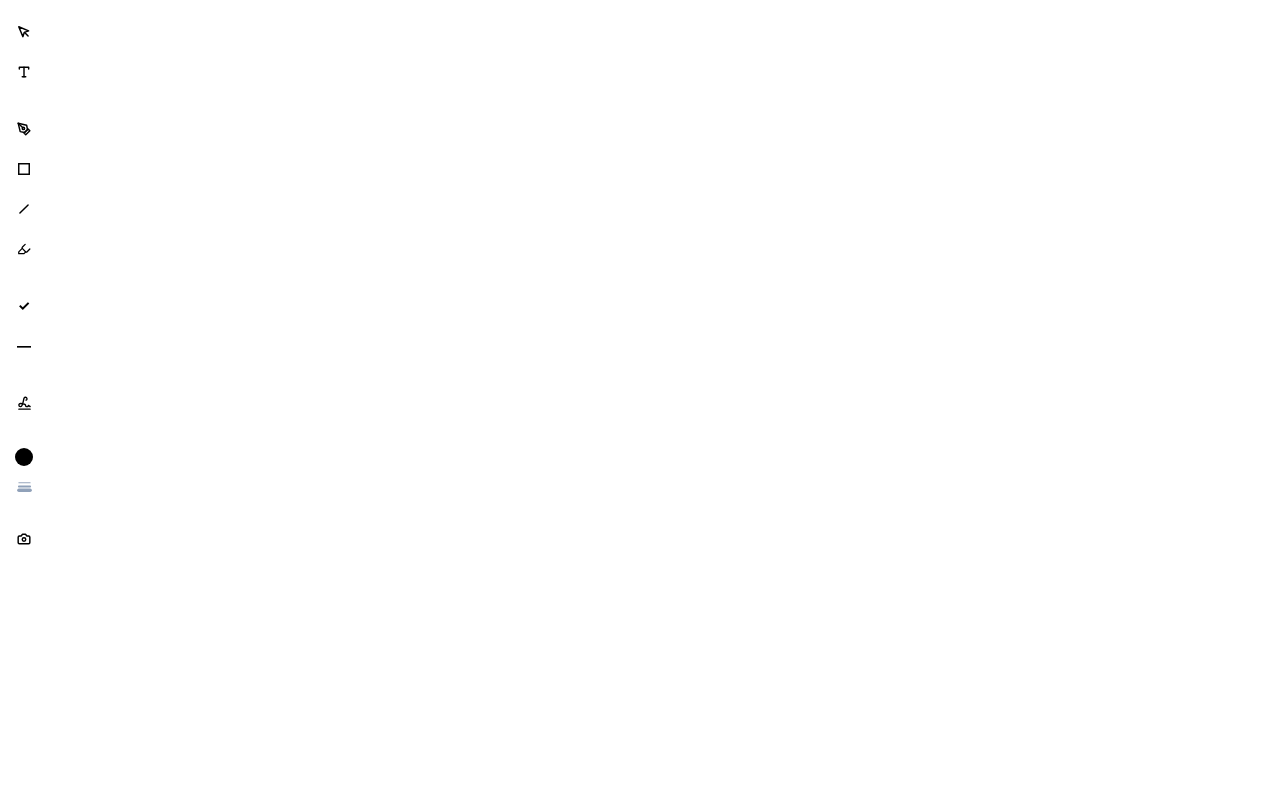
Test case: sign-off name fields › keeps an edited initials value
The image size is (1280, 800).
Click the button titled "Signatures & Initials" at (24, 403), box [8, 387, 40, 419]
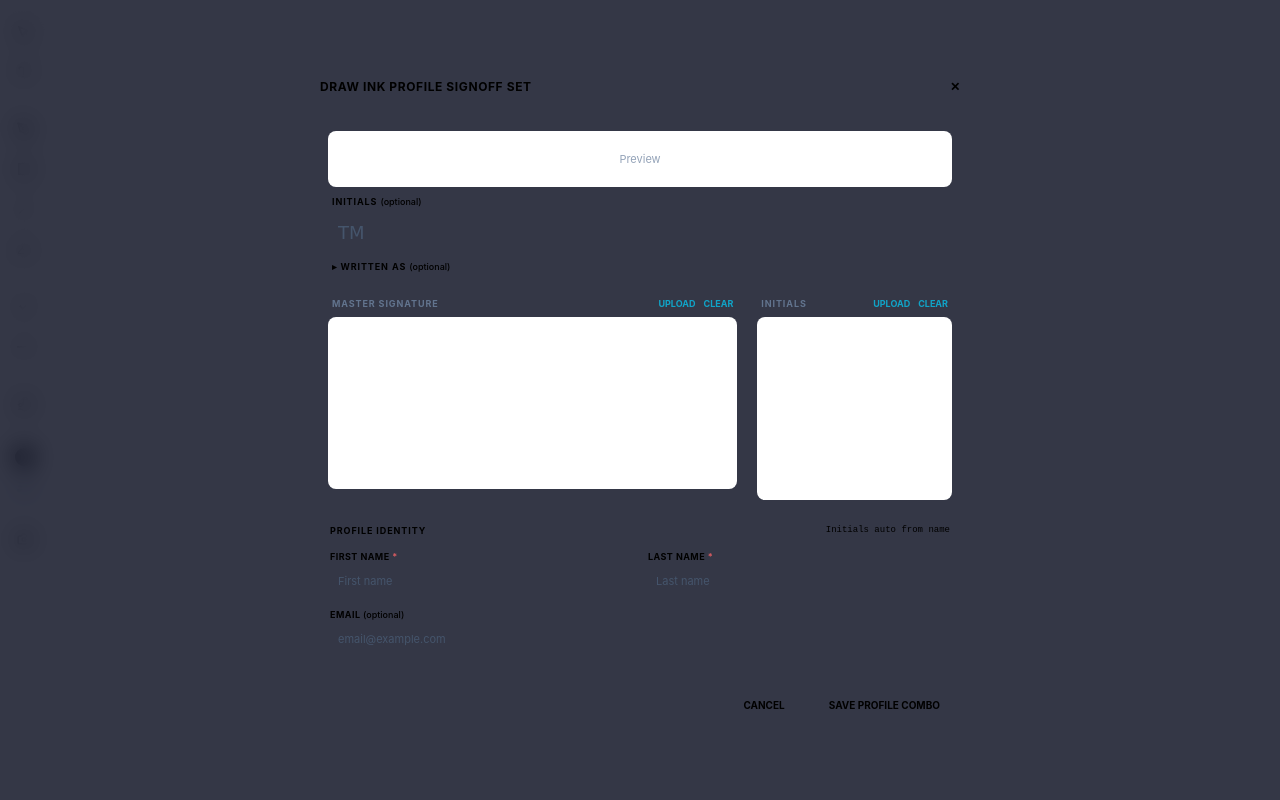
Result: the field with placeholder "First name" is shown
Type "Terry" into the field with placeholder "First name" at (481, 581), box [328, 567, 634, 596]
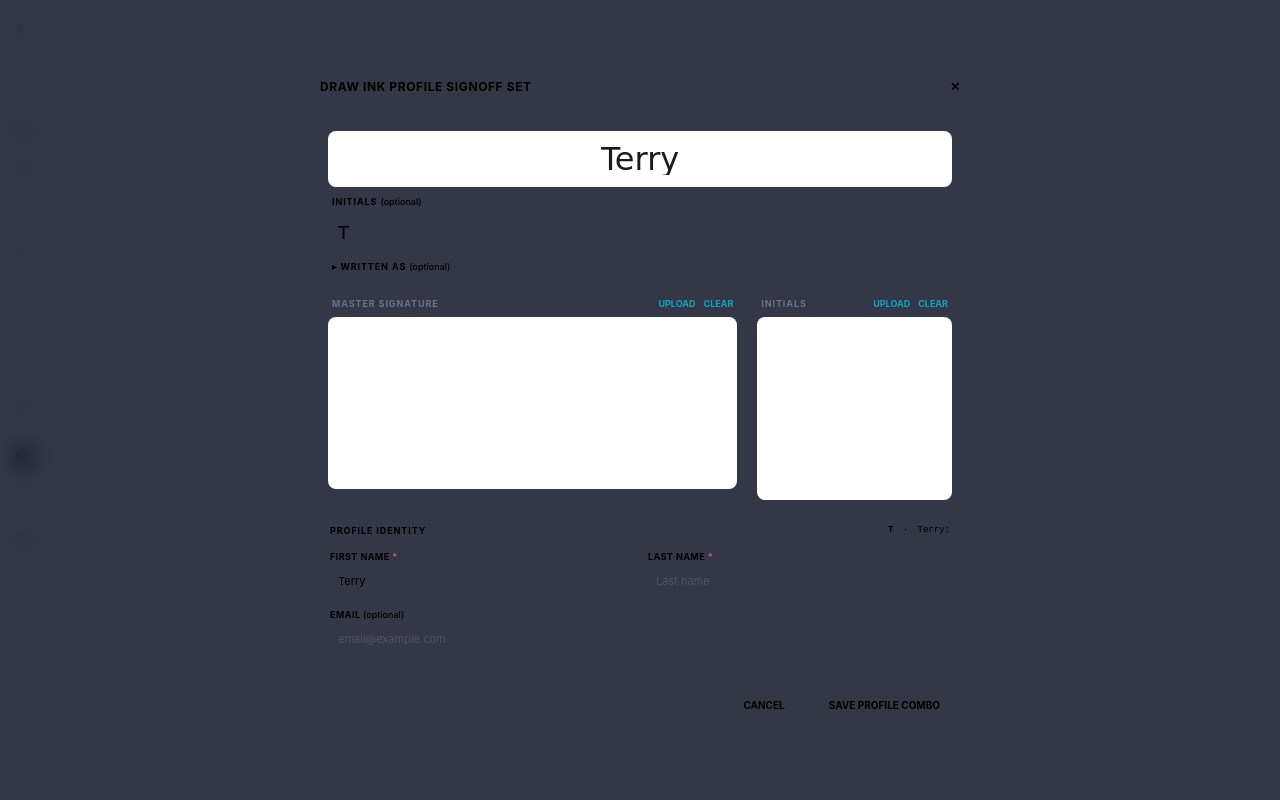
Type "Minett" into the field with placeholder "Last name" at (799, 581), box [646, 567, 952, 596]
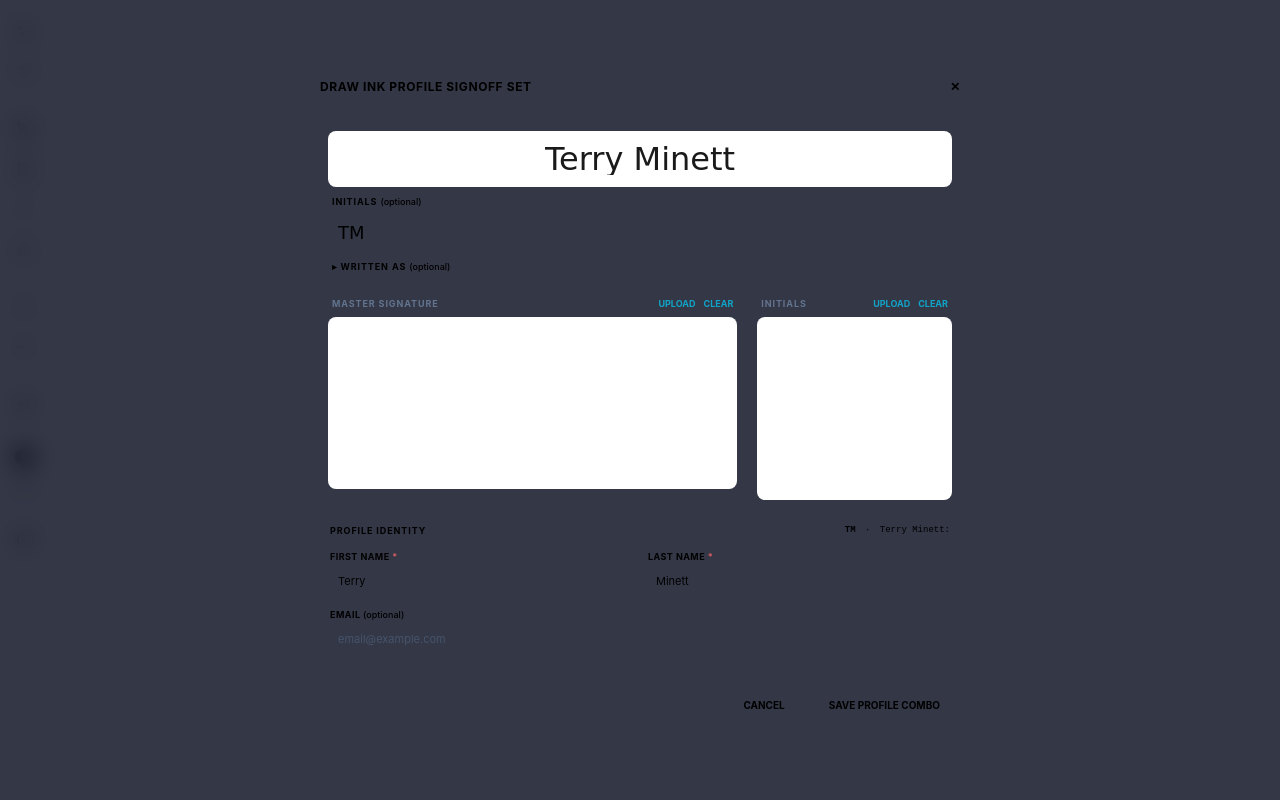
Type "TJM" into the field with placeholder "TM" at (376, 232), box [328, 213, 424, 252]
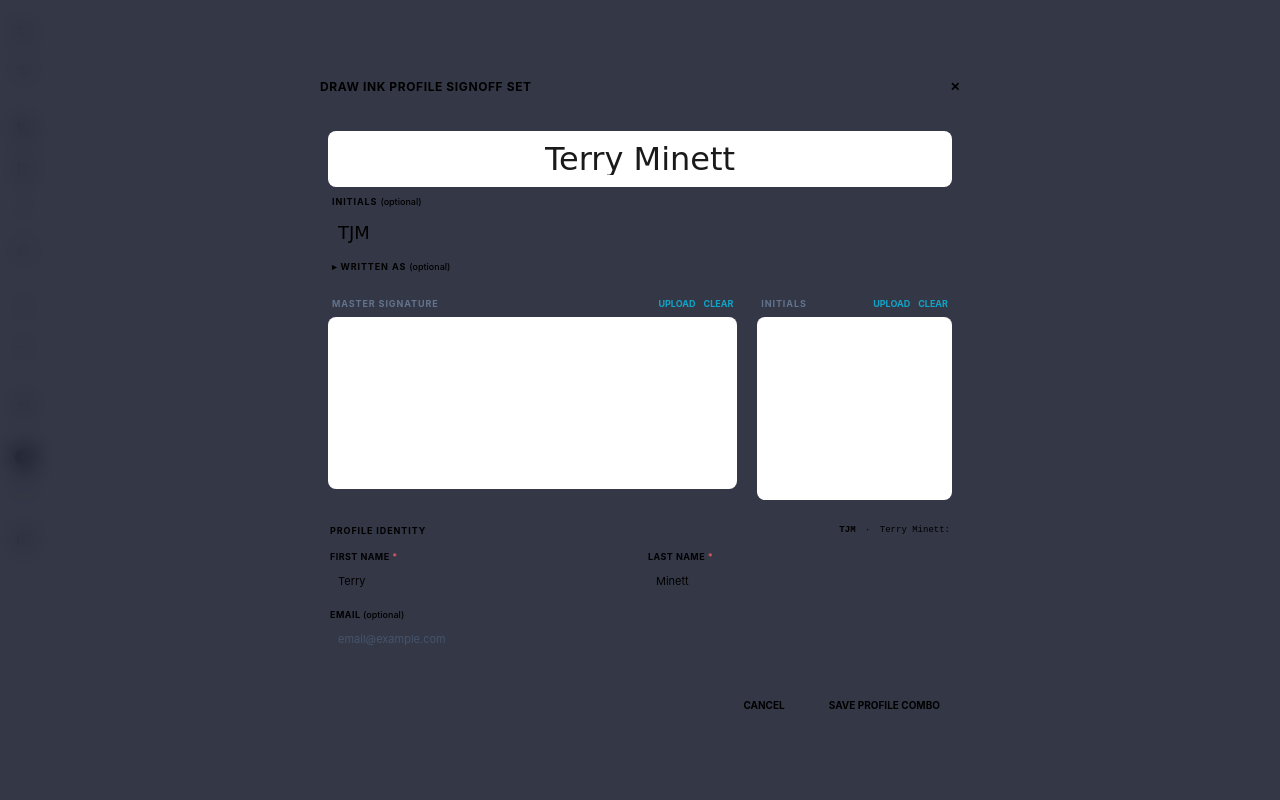
Click the button "Save Profile Combo" at (884, 705), box [809, 690, 960, 721]
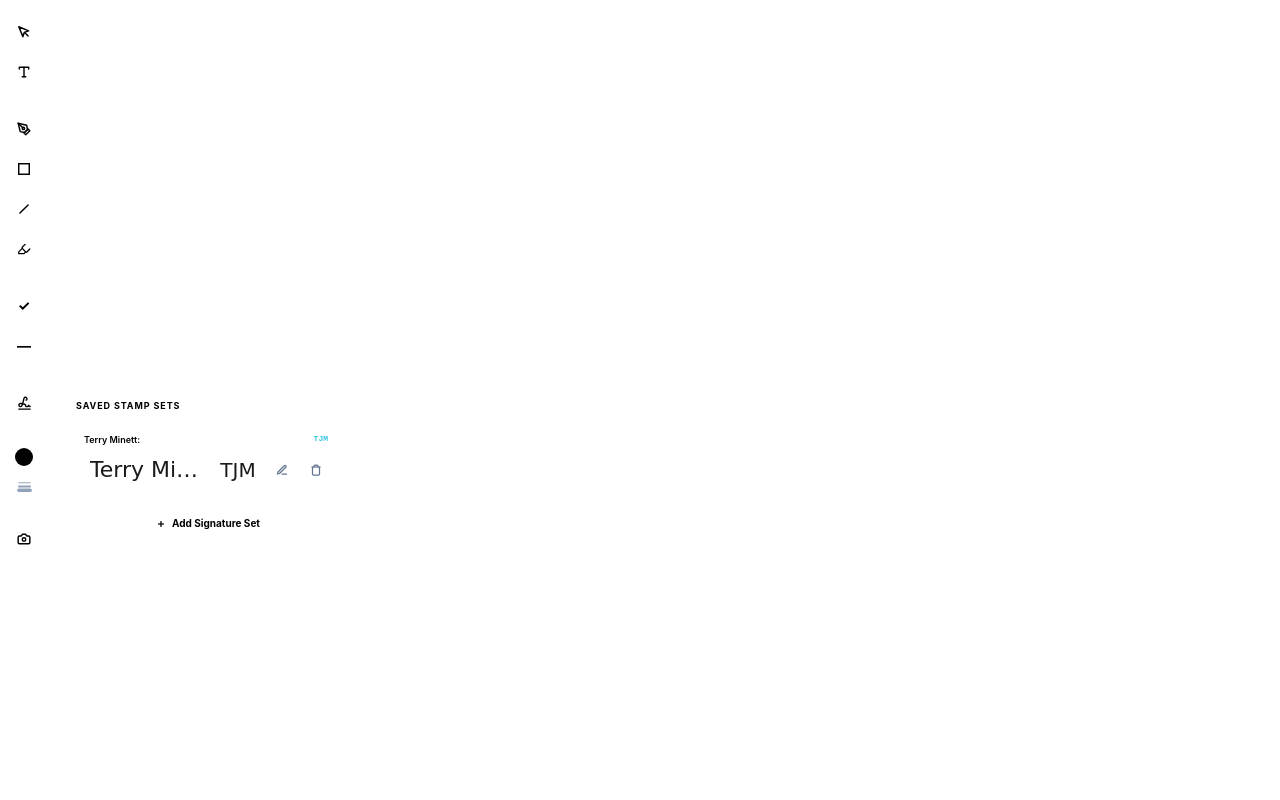
Result: the text "Terry Minett" is shown at [90, 459, 200, 481]
Result: the text "TJM" in the row of "Terry Minett:" is shown at [314, 434, 328, 443]
